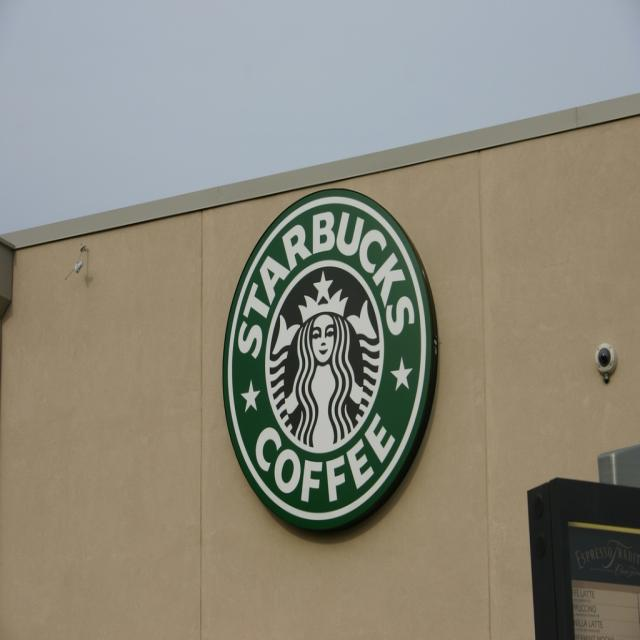starbucks: (222, 188, 432, 530)
